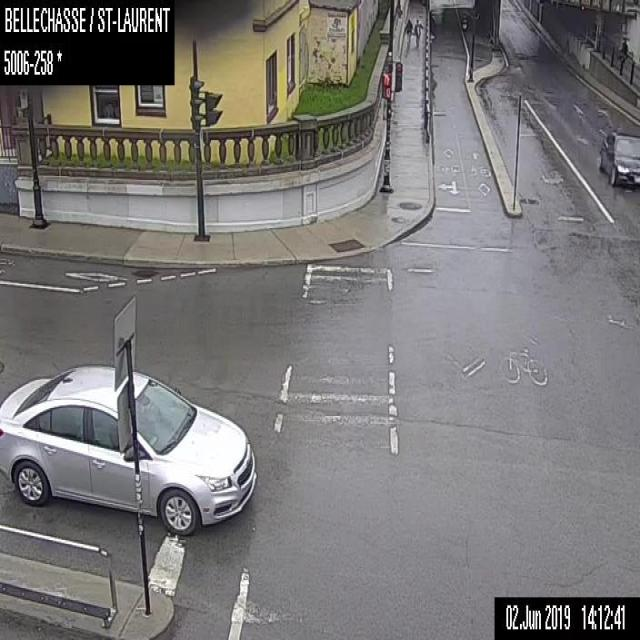pedestrian: (413, 18, 422, 45), (404, 19, 413, 45), (620, 34, 629, 55)
vehicle: (0, 366, 255, 532), (598, 130, 639, 186)
